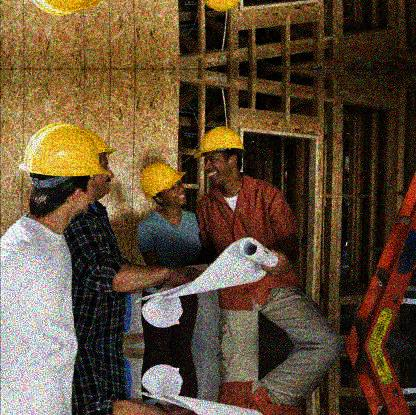helmet: (19, 122, 110, 218), (195, 125, 245, 187), (139, 161, 188, 206), (87, 128, 113, 201)
